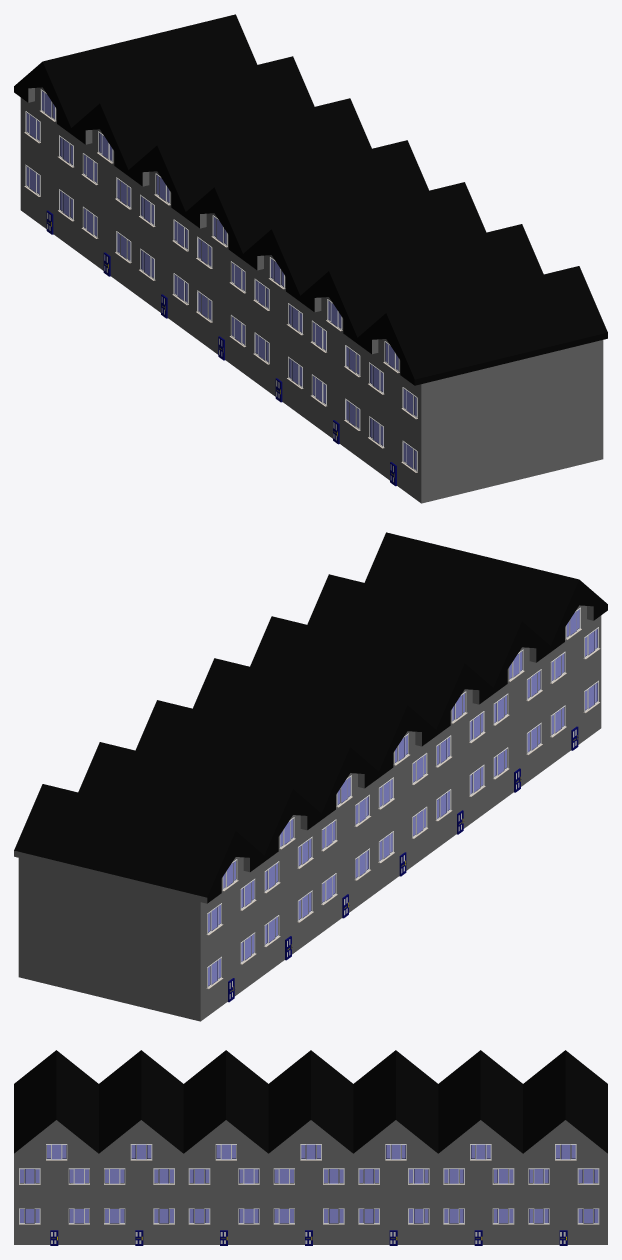
File: SevenTerracedHouses.fbx
3 renders of one model, top to bottom at view 1: azimuth 30°, elevation 25°; view 2: azimuth 150°, elevation 25°; view 3: azimuth 270°, elevation 25°, orthographic. The views are drawn at different scales.
Visible parts, largest first — view 1: TerracedHouses; view 2: TerracedHouses; view 3: TerracedHouses.
Boxes of the visible parts, bbox=[...] form: TerracedHouses: bbox=[14, 14, 607, 503]; TerracedHouses: bbox=[14, 532, 607, 1021]; TerracedHouses: bbox=[14, 1050, 607, 1245].
Bounding box in the file's own units: 1169 × 993 × 4200.
